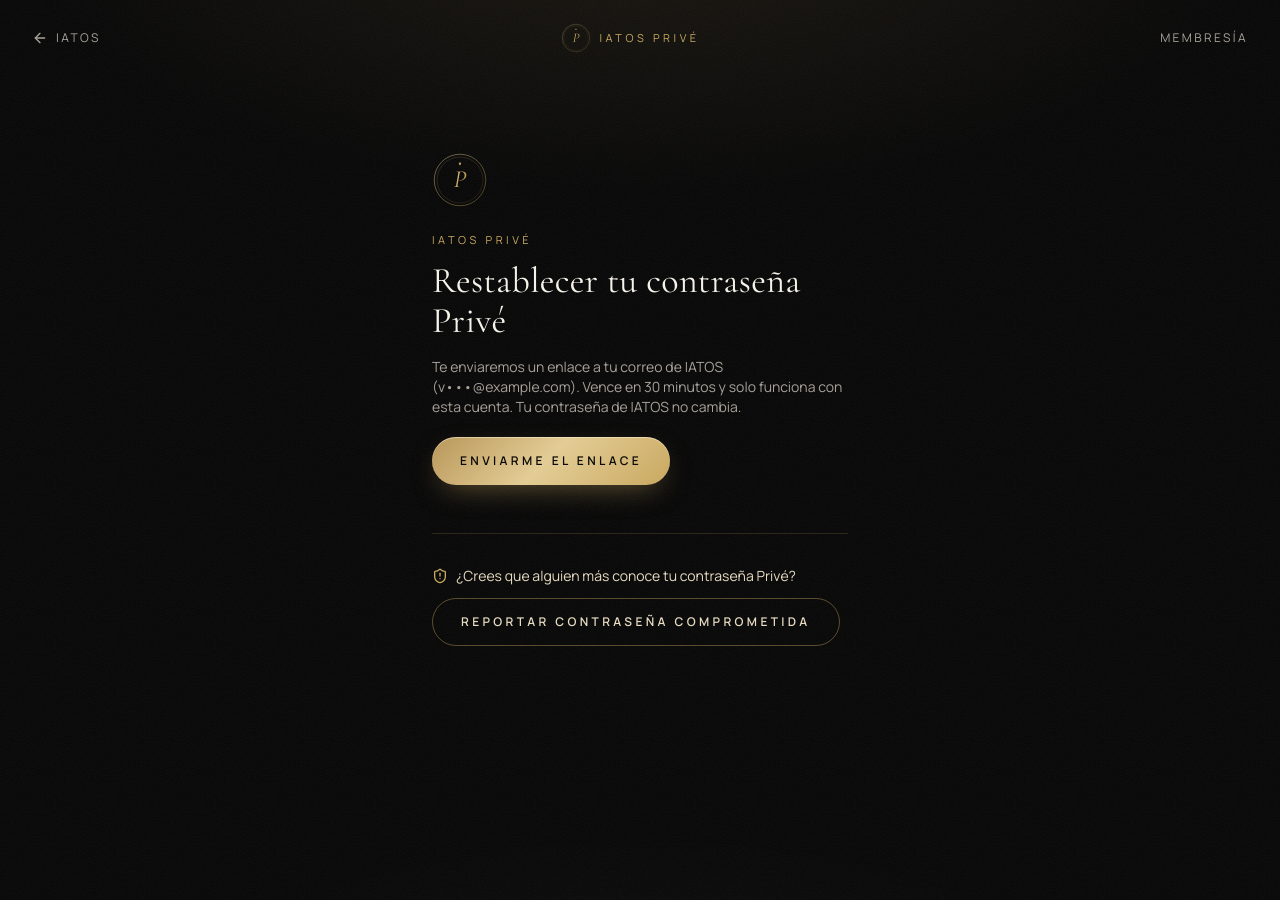
P1-2 · Restablecer sin contraseña Privé: sin callejón › si el servidor responde NO_PASSWORD, muestra la misma salida útil (no el error suelto)
Click the button "Enviarme el enlace": (551, 460) [432,436,670,484]
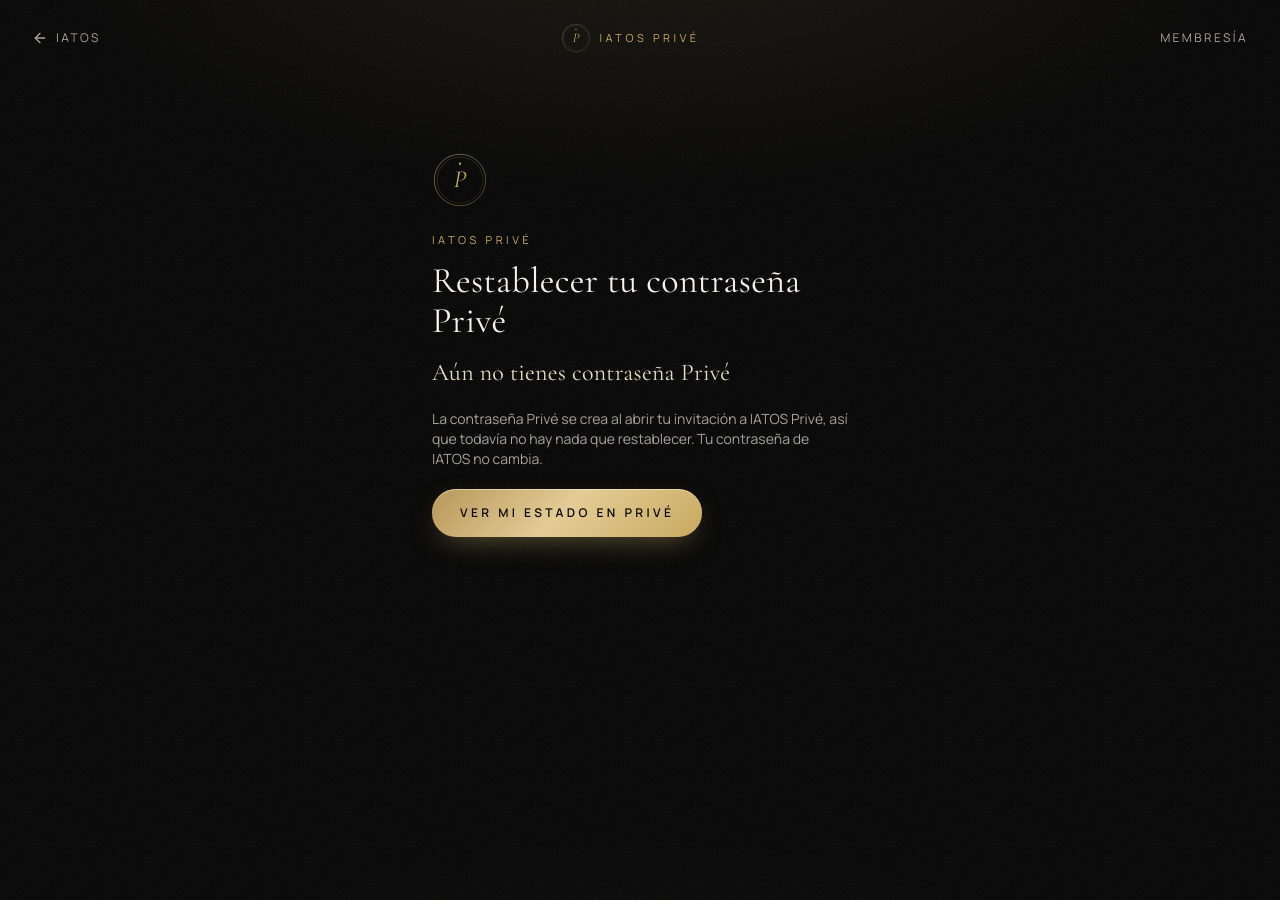
Expected: the message with test id "prive-reset-no-password" is shown, [432,356,848,536]
